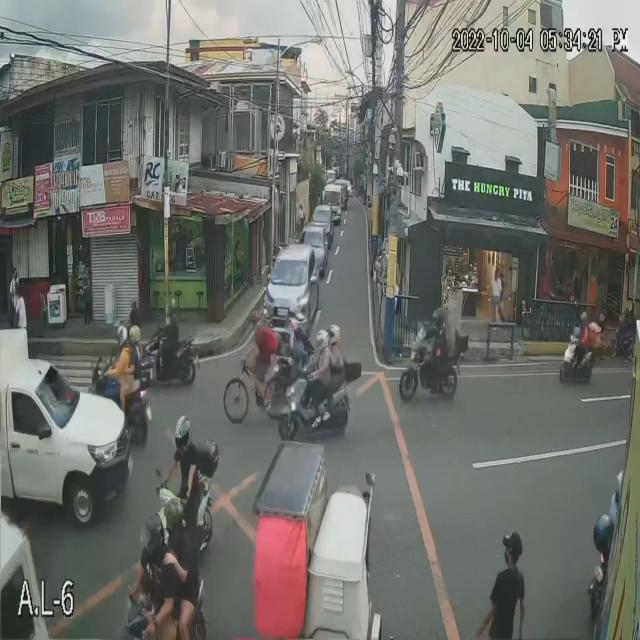Full-Faced: (136, 512, 164, 554), (159, 496, 186, 538), (174, 413, 193, 462), (326, 320, 341, 345), (432, 306, 446, 332), (315, 328, 331, 350), (128, 322, 142, 344), (116, 325, 130, 346), (580, 307, 588, 328)
